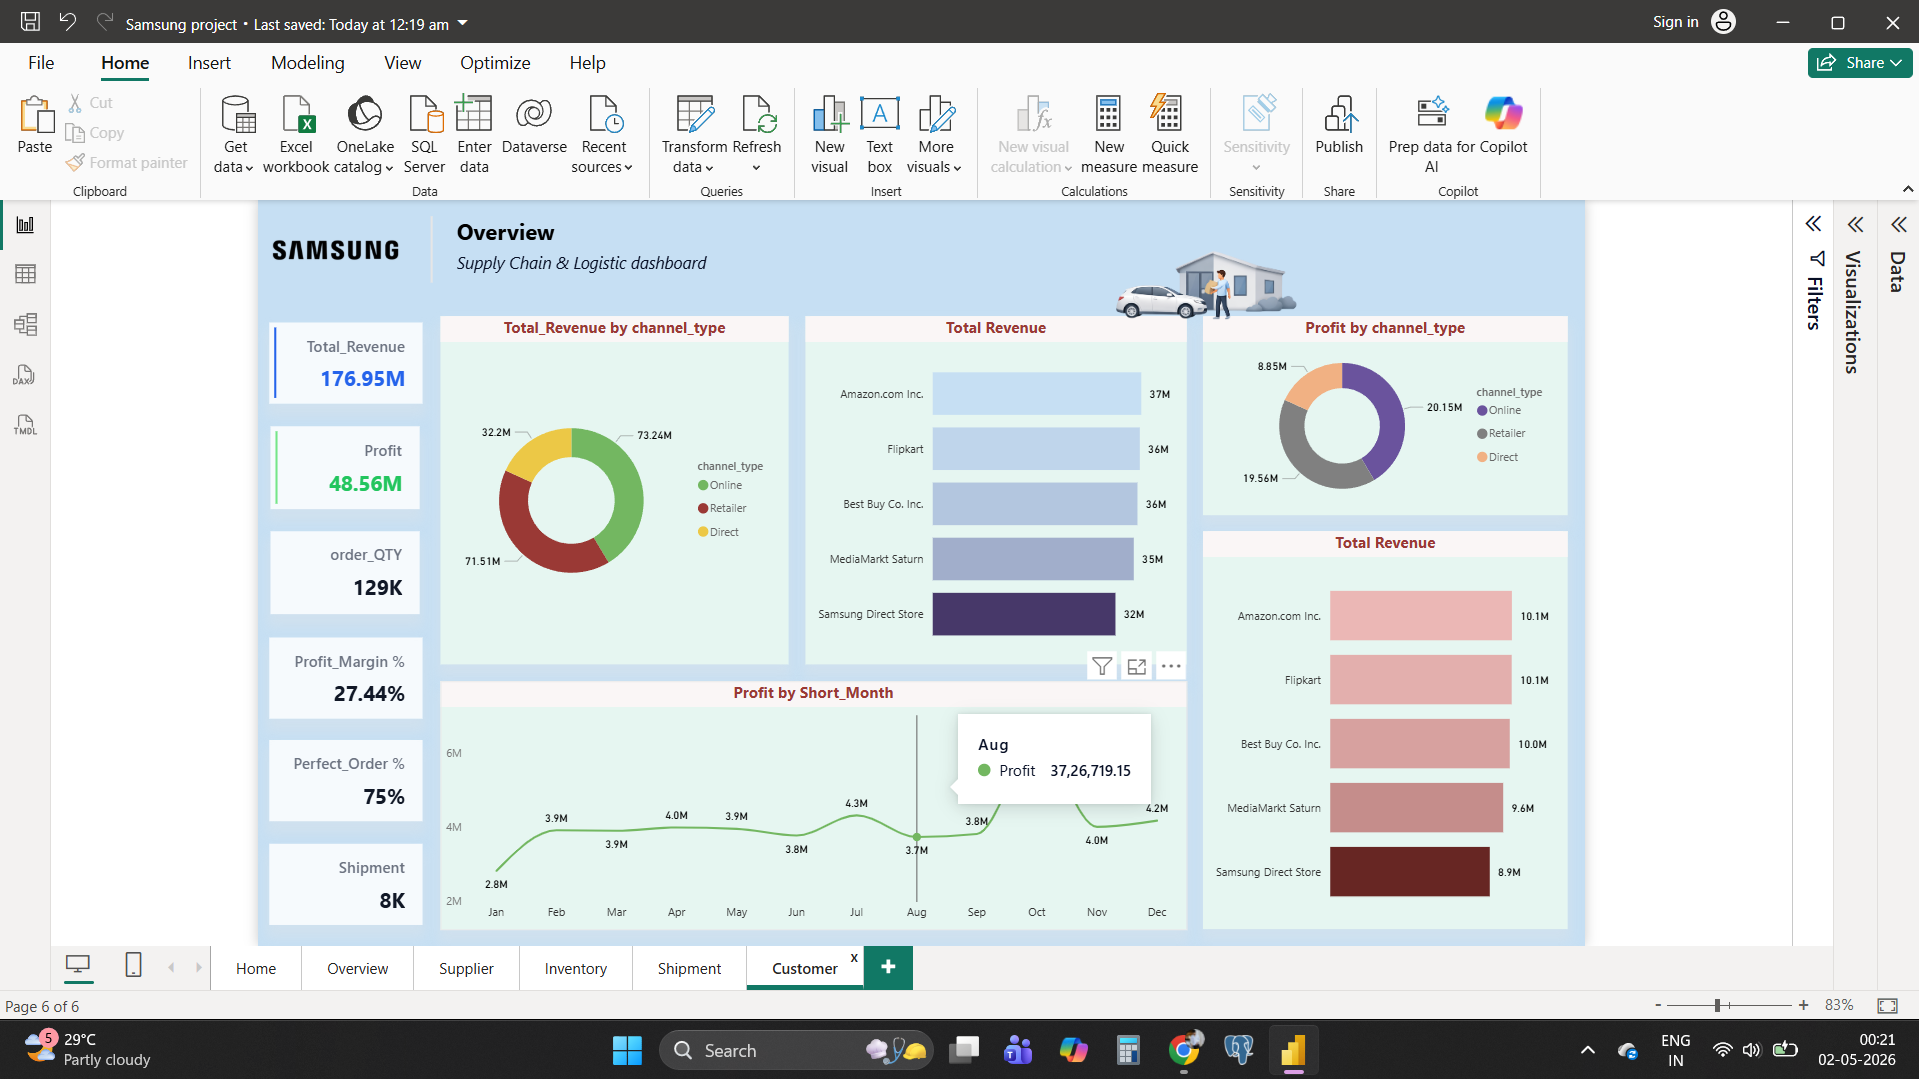

Layout of this report page (visuals, bound fields, positions):
{"tool":"powerbi","page":{"name":"Customer","canvas":[1280,720],"ordinal":5},"visuals":[{"type":"shape","title":"Overview","box":[192,16,256,64],"z":4000},{"type":"shape","box":[144,16,48,64],"z":5000},{"type":"image","box":[0,0,144,96],"z":6000},{"type":"cardVisual","fields":{"Data":["Measures_table.Perfect_Order %"]},"box":[10.5,521.6,148,78],"z":7000},{"type":"cardVisual","fields":{"Data":["Measures_table.Profit_Margin %"]},"box":[10.5,421.9,148,78],"z":8000},{"type":"cardVisual","fields":{"Data":["Measures_table.Profit"]},"box":[12.5,218.3,144,80],"z":9000},{"type":"cardVisual","fields":{"Data":["Measures_table.Total_Revenue"]},"box":[10.5,118.5,148,78],"z":10000},{"type":"cardVisual","fields":{"Data":["Measures_table.Total_shipment"]},"box":[10.5,621.4,148,78],"z":11000},{"type":"cardVisual","fields":{"Data":["Measures_table.order_QTY"]},"box":[12.5,320.1,144,80],"z":13000},{"type":"clusteredBarChart","title":"Total Revenue ","fields":{"Y":["Measures_table.Total_Revenue"],"Category":["dim_customer.customer_name"]},"box":[528,112,368,336],"z":15000},{"type":"donutChart","fields":{"Category":["dim_customer.channel_type"],"Y":["Measures_table.Total_Revenue"]},"box":[176,112,336,336],"z":17000},{"type":"donutChart","fields":{"Category":["dim_customer.channel_type"],"Y":["Measures_table.Profit"]},"box":[912,112,352,192],"z":17001},{"type":"clusteredBarChart","title":"Total Revenue ","fields":{"Y":["Measures_table.Profit"],"Category":["dim_customer.customer_name"]},"box":[912,320,352,384],"z":17002},{"type":"lineChart","fields":{"Category":["dim_date.Short_Month"],"Y":["Measures_table.Profit"]},"box":[176,464,720,240],"z":17003},{"type":"image","box":[816,16,208,128],"z":17004}]}

Visuals, with their boxes on the page's 1280x720 design canvas (x1, y1, x2, y2). These are canvas units, not pixel positions in the 1919x1079 screenshot, which may show the page scaled, cropped or inside an application window:
"Overview" shape: 192 16 448 80
shape: 144 16 192 80
image: 0 0 144 96
cardVisual - Measures_table.Perfect_Order %: 10 522 158 600
cardVisual - Measures_table.Profit_Margin %: 10 422 158 500
cardVisual - Measures_table.Profit: 12 218 156 298
cardVisual - Measures_table.Total_Revenue: 10 118 158 196
cardVisual - Measures_table.Total_shipment: 10 621 158 699
cardVisual - Measures_table.order_QTY: 12 320 156 400
"Total Revenue " clusteredBarChart: 528 112 896 448
donutChart - dim_customer.channel_type x Measures_table.Total_Revenue: 176 112 512 448
donutChart - dim_customer.channel_type x Measures_table.Profit: 912 112 1264 304
"Total Revenue " clusteredBarChart: 912 320 1264 704
lineChart - dim_date.Short_Month x Measures_table.Profit: 176 464 896 704
image: 816 16 1024 144
